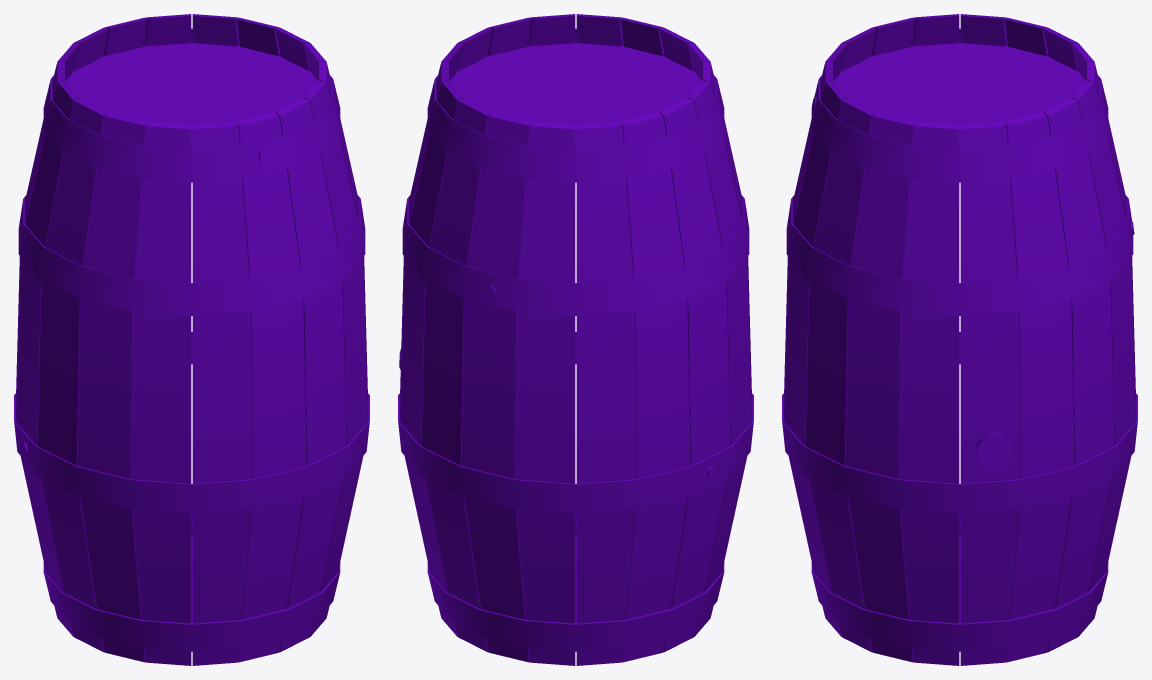
File: barrel1_low.fbx
3 views of the same model, side by side, from view 1: azimuth 30°, elevation 25°; view 2: azimuth 150°, elevation 25°; view 3: azimuth 270°, elevation 25° (orthographic).
Parts seen in each view (by area): view 1: placnhes tono_low, metal_low, couvercle_low; view 2: placnhes tono_low, metal_low, couvercle_low; view 3: placnhes tono_low, metal_low, couvercle_low.
Part boxes in pixels (left/top/right/bottom): placnhes tono_low: left=16, top=14, right=367, bottom=665; metal_low: left=14, top=28, right=369, bottom=651; couvercle_low: left=66, top=42, right=317, bottom=623; placnhes tono_low: left=400, top=14, right=751, bottom=665; metal_low: left=398, top=28, right=753, bottom=651; couvercle_low: left=450, top=42, right=701, bottom=623; placnhes tono_low: left=784, top=14, right=1135, bottom=665; metal_low: left=782, top=28, right=1137, bottom=651; couvercle_low: left=834, top=42, right=1085, bottom=623.
Size of the model in its own units: 46.19 by 76.38 by 45.49.
